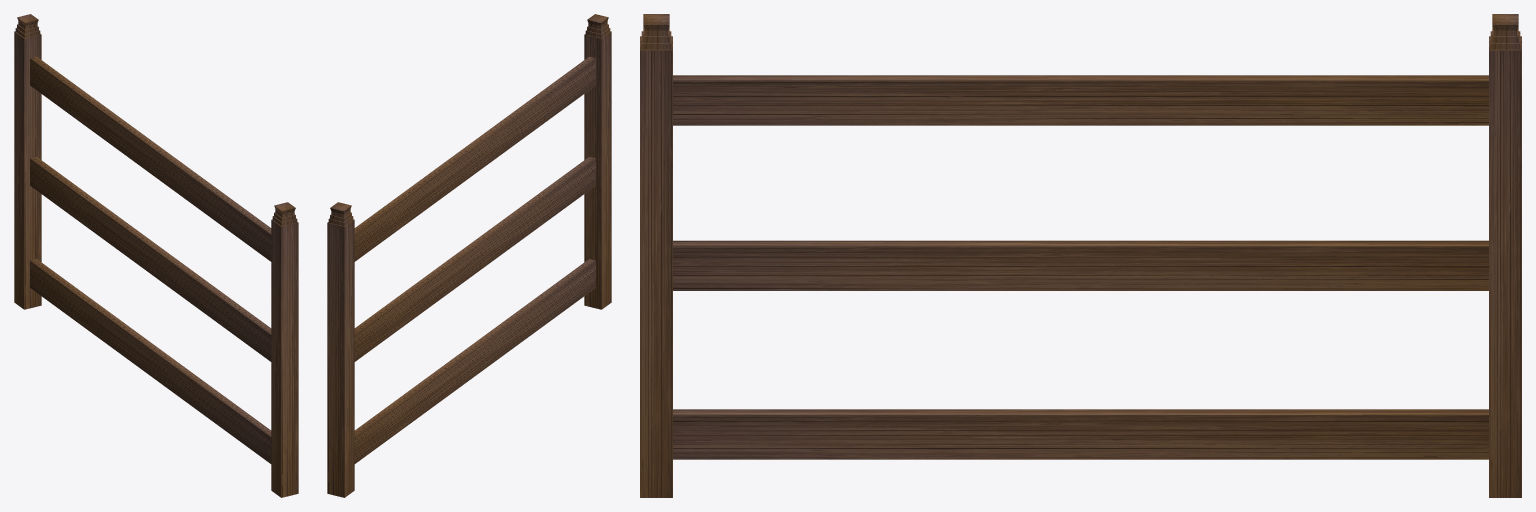
The model's file is FencemitTexture.fbx.
The picture shows the model from 3 angles, left to right: view 1: azimuth 30°, elevation 25°; view 2: azimuth 150°, elevation 25°; view 3: azimuth 270°, elevation 25°; orthographic projection. The views are drawn at different scales.
Parts seen in each view (by area): view 1: Box003, Box004, Box002, Box005, Box001; view 2: Box003, Box004, Box002, Box001, Box005; view 3: Box003, Box004, Box002, Box005, Box001.
Part boxes in pixels (box(x1,y1,x2,y2)): Box003: box(30, 259, 271, 463); Box004: box(30, 156, 271, 361); Box002: box(30, 56, 271, 261); Box005: box(271, 202, 298, 497); Box001: box(14, 14, 41, 309); Box003: box(354, 259, 595, 463); Box004: box(354, 156, 595, 361); Box002: box(354, 56, 595, 261); Box001: box(327, 202, 354, 497); Box005: box(584, 14, 611, 309); Box003: box(673, 409, 1488, 459); Box004: box(673, 240, 1488, 290); Box002: box(673, 75, 1488, 125); Box005: box(640, 14, 672, 497); Box001: box(1489, 14, 1521, 497).
Size of the model in its own units: 10 by 158 by 268.
1 material, 1 textured.
